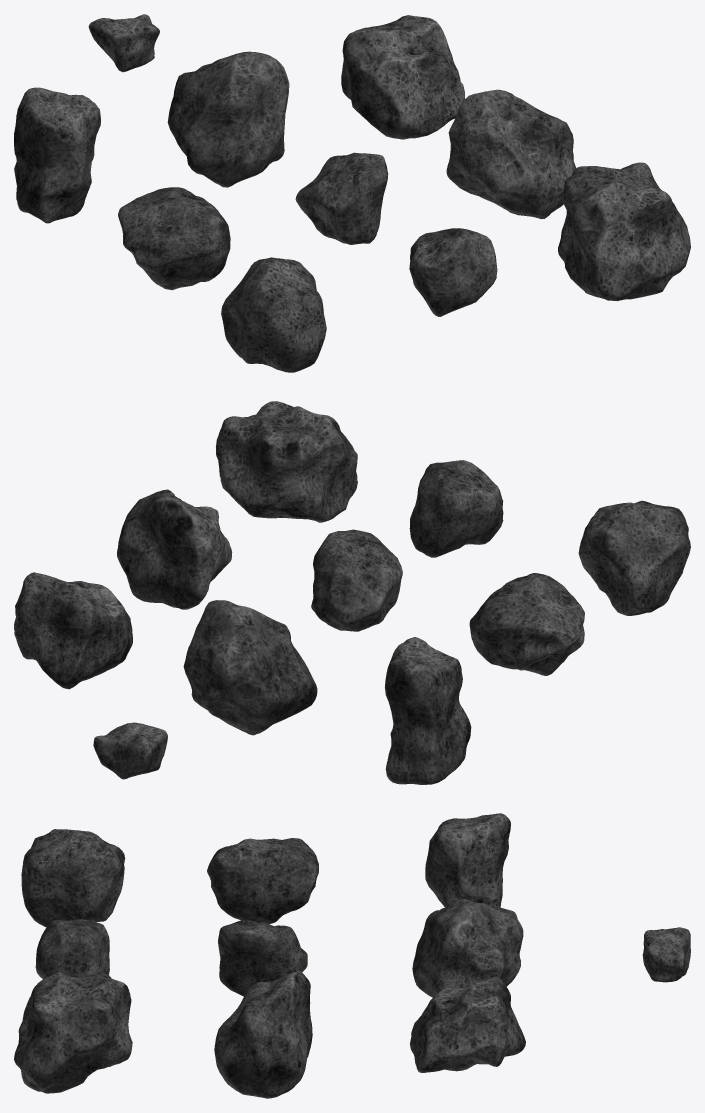
3 views of the same model, one above another, from view 1: azimuth 30°, elevation 25°; view 2: azimuth 150°, elevation 25°; view 3: azimuth 270°, elevation 25° (orthographic). The views are drawn at different scales.
Parts seen in each view (by area): view 1: Asteroid_no_1_Material #3_0, Asteroid_no_8_Material #3_0, Asteroid_no_4_Material #3_0, Asteroid_no_7_Material #3_0, Asteroid_no_9_Material #3_0, Asteroid_no_3_Material #3_0, Asteroid_no_6_Material #3_0, Asteroid_no_5_Material #3_0, Asteroid_no_2_Material #3_0, Asteroid_no_10_Material #3_0; view 2: Asteroid_no_1_Material #3_0, Asteroid_no_8_Material #3_0, Asteroid_no_7_Material #3_0, Asteroid_no_9_Material #3_0, Asteroid_no_4_Material #3_0, Asteroid_no_3_Material #3_0, Asteroid_no_6_Material #3_0, Asteroid_no_5_Material #3_0, Asteroid_no_2_Material #3_0, Asteroid_no_10_Material #3_0; view 3: Asteroid_no_1_Material #3_0, Asteroid_no_4_Material #3_0, Asteroid_no_3_Material #3_0, Asteroid_no_8_Material #3_0, Asteroid_no_7_Material #3_0, Asteroid_no_6_Material #3_0, Asteroid_no_9_Material #3_0, Asteroid_no_5_Material #3_0, Asteroid_no_2_Material #3_0, Asteroid_no_10_Material #3_0.
Part boxes in pixels (left/top/right/bottom): Asteroid_no_1_Material #3_0: left=558, top=162, right=690, bottom=301; Asteroid_no_8_Material #3_0: left=167, top=51, right=289, bottom=187; Asteroid_no_4_Material #3_0: left=446, top=89, right=576, bottom=219; Asteroid_no_7_Material #3_0: left=341, top=15, right=464, bottom=139; Asteroid_no_9_Material #3_0: left=14, top=87, right=100, bottom=223; Asteroid_no_3_Material #3_0: left=221, top=257, right=326, bottom=372; Asteroid_no_6_Material #3_0: left=118, top=187, right=230, bottom=290; Asteroid_no_5_Material #3_0: left=295, top=152, right=388, bottom=244; Asteroid_no_2_Material #3_0: left=409, top=228, right=497, bottom=316; Asteroid_no_10_Material #3_0: left=88, top=14, right=159, bottom=72; Asteroid_no_1_Material #3_0: left=216, top=401, right=357, bottom=522; Asteroid_no_8_Material #3_0: left=183, top=600, right=317, bottom=735; Asteroid_no_7_Material #3_0: left=14, top=572, right=132, bottom=689; Asteroid_no_9_Material #3_0: left=385, top=637, right=471, bottom=784; Asteroid_no_4_Material #3_0: left=117, top=489, right=232, bottom=609; Asteroid_no_3_Material #3_0: left=578, top=500, right=690, bottom=615; Asteroid_no_6_Material #3_0: left=469, top=573, right=584, bottom=675; Asteroid_no_5_Material #3_0: left=311, top=529, right=402, bottom=631; Asteroid_no_2_Material #3_0: left=409, top=460, right=503, bottom=557; Asteroid_no_10_Material #3_0: left=93, top=722, right=167, bottom=779; Asteroid_no_1_Material #3_0: left=14, top=972, right=132, bottom=1093; Asteroid_no_4_Material #3_0: left=214, top=971, right=312, bottom=1098; Asteroid_no_3_Material #3_0: left=21, top=829, right=125, bottom=927; Asteroid_no_8_Material #3_0: left=412, top=899, right=523, bottom=997; Asteroid_no_7_Material #3_0: left=410, top=977, right=525, bottom=1072; Asteroid_no_6_Material #3_0: left=207, top=838, right=318, bottom=923; Asteroid_no_9_Material #3_0: left=425, top=813, right=510, bottom=907; Asteroid_no_5_Material #3_0: left=218, top=920, right=307, bottom=996; Asteroid_no_2_Material #3_0: left=35, top=919, right=109, bottom=978; Asteroid_no_10_Material #3_0: left=642, top=927, right=690, bottom=982.
Size of the model in its own units: 34.3 by 9.09 by 48.14.
Materials: 1 (1 with a texture image).
